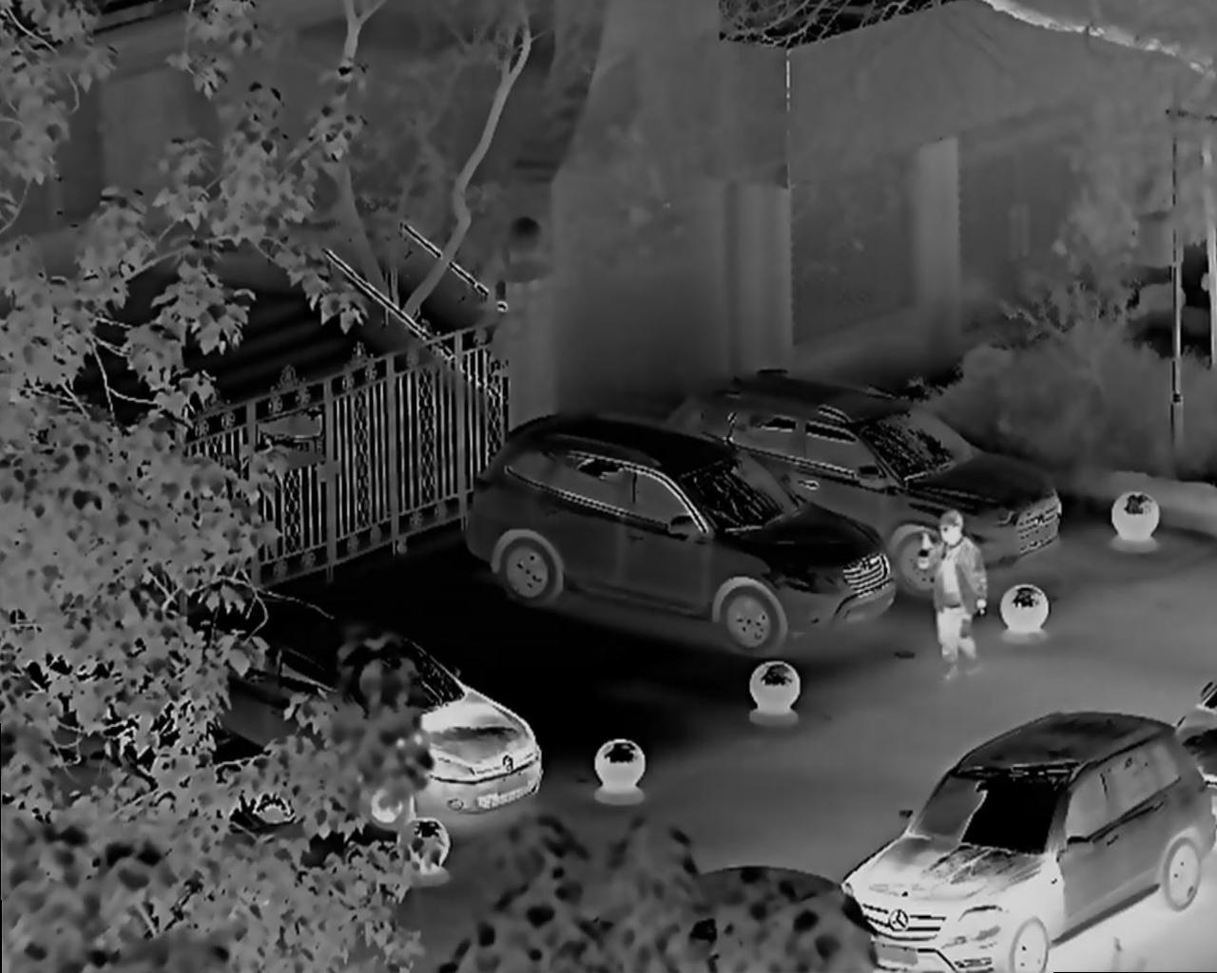person: (919, 504, 996, 686)
